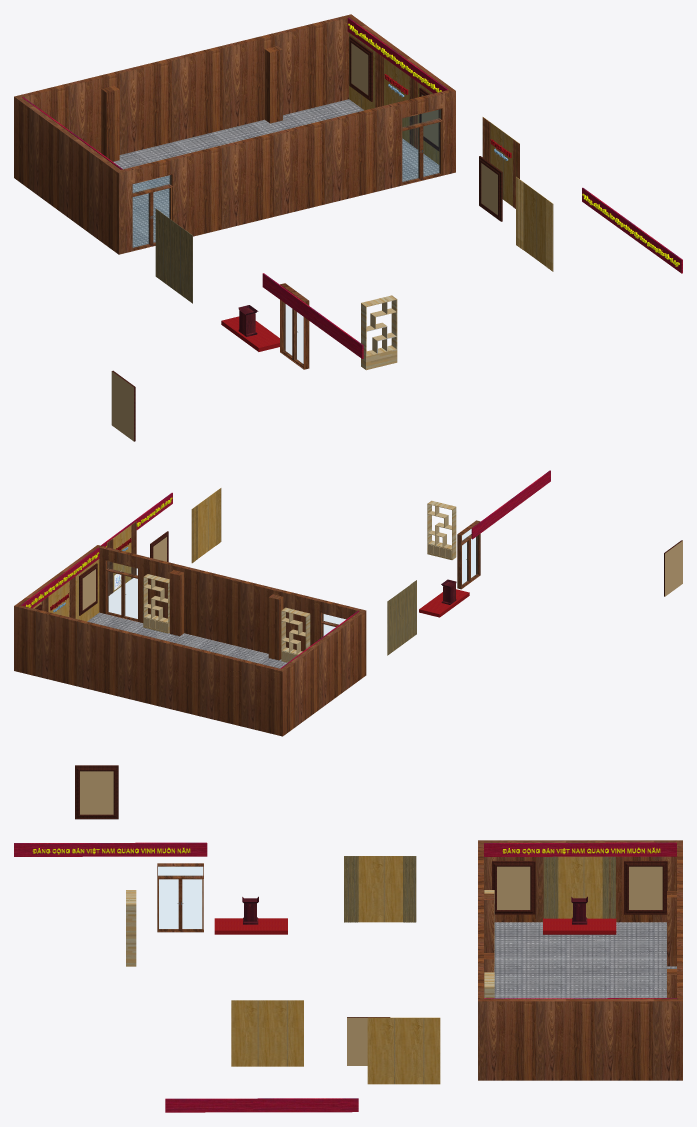
File: GỐC.glb
The picture shows the model from 3 angles, top to bottom: view 1: azimuth 30°, elevation 25°; view 2: azimuth 150°, elevation 25°; view 3: azimuth 270°, elevation 25°; orthographic projection. The views are drawn at different scales.
Parts seen in each view (by area): view 1: 3DGeom-1, 3DGeom-3, 3DGeom-6 (×3), 3DGeom-47, 3DGeom-121, 3DGeom-117 (×2), 3DGeom-127 (×2), 3DGeom-126 (×2), 3DGeom-13, 3DGeom-83, 3DGeom-2, 3DGeom-12 (+1 smaller); view 2: 3DGeom-1, 3DGeom-3, 3DGeom-83 (×3), 3DGeom-121, 3DGeom-47, 3DGeom-82 (×3), 3DGeom-6 (×2), 3DGeom-117 (×2), 3DGeom-127 (×2), 3DGeom-13, 3DGeom-12, 3DGeom-2 (+2 smaller); view 3: 3DGeom-1, 3DGeom-3, 3DGeom-48 (×2), 3DGeom-6 (×4), 3DGeom-13 (×2), 3DGeom-127, 3DGeom-121, 3DGeom-47 (×2), 3DGeom-117, 3DGeom-5 (×3), 3DGeom-12 (×2), 3DGeom-14 (×2) (+1 smaller).
Boxes of the visible parts, box(x1,y1,x2,y2) form: 3DGeom-1: box(14, 14, 455, 254); 3DGeom-3: box(113, 99, 439, 247); 3DGeom-6 (×3): box(111, 43, 497, 441); 3DGeom-47: box(155, 208, 192, 303); 3DGeom-121: box(516, 177, 553, 271); 3DGeom-117 (×2): box(347, 17, 682, 273); 3DGeom-127 (×2): box(384, 58, 519, 206); 3DGeom-126 (×2): box(375, 51, 519, 208); 3DGeom-13: box(262, 273, 363, 358); 3DGeom-83: box(361, 295, 397, 370); 3DGeom-2: box(349, 32, 439, 164); 3DGeom-12: box(221, 316, 279, 351); 3DGeom-1: box(14, 545, 366, 736); 3DGeom-3: box(87, 612, 287, 668); 3DGeom-83 (×3): box(143, 500, 456, 662); 3DGeom-121: box(191, 488, 221, 563); 3DGeom-47: box(387, 580, 416, 655); 3DGeom-82 (×3): box(144, 506, 451, 653); 3DGeom-6 (×2): box(82, 540, 682, 610); 3DGeom-117 (×2): box(21, 492, 172, 608); 3DGeom-127 (×2): box(48, 521, 136, 616); 3DGeom-13: box(471, 470, 550, 539); 3DGeom-12: box(419, 589, 469, 617); 3DGeom-2: box(33, 559, 99, 621); 3DGeom-1: box(478, 840, 682, 1080); 3DGeom-3: box(494, 922, 676, 998); 3DGeom-48 (×2): box(358, 856, 602, 922); 3DGeom-6 (×4): box(80, 771, 662, 1065); 3DGeom-13 (×2): box(14, 842, 676, 856); 3DGeom-127: box(367, 1017, 440, 1084); 3DGeom-121: box(231, 1000, 303, 1066); 3DGeom-47 (×2): box(344, 856, 615, 922); 3DGeom-117: box(165, 1098, 358, 1112); 3DGeom-5 (×3): box(75, 765, 667, 914); 3DGeom-12 (×2): box(214, 918, 616, 934); 3DGeom-14 (×2): box(32, 847, 660, 854).
Size of the model in its own units: 22.94 by 3.01 by 22.86.
Materials: 21 (12 with a texture image).
